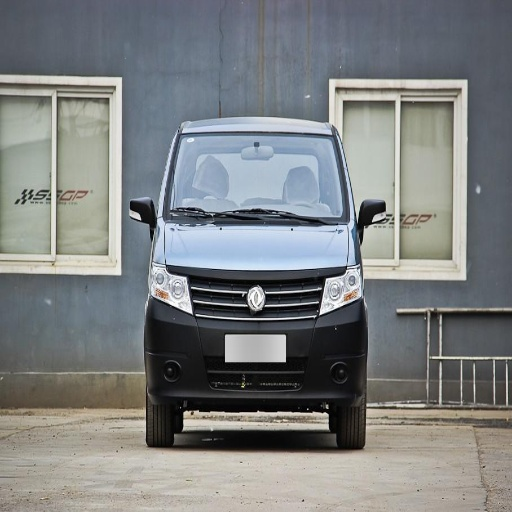front_bumper: (147, 267, 368, 426)
front_right_light: (149, 261, 191, 312)
hood: (163, 224, 348, 271)
